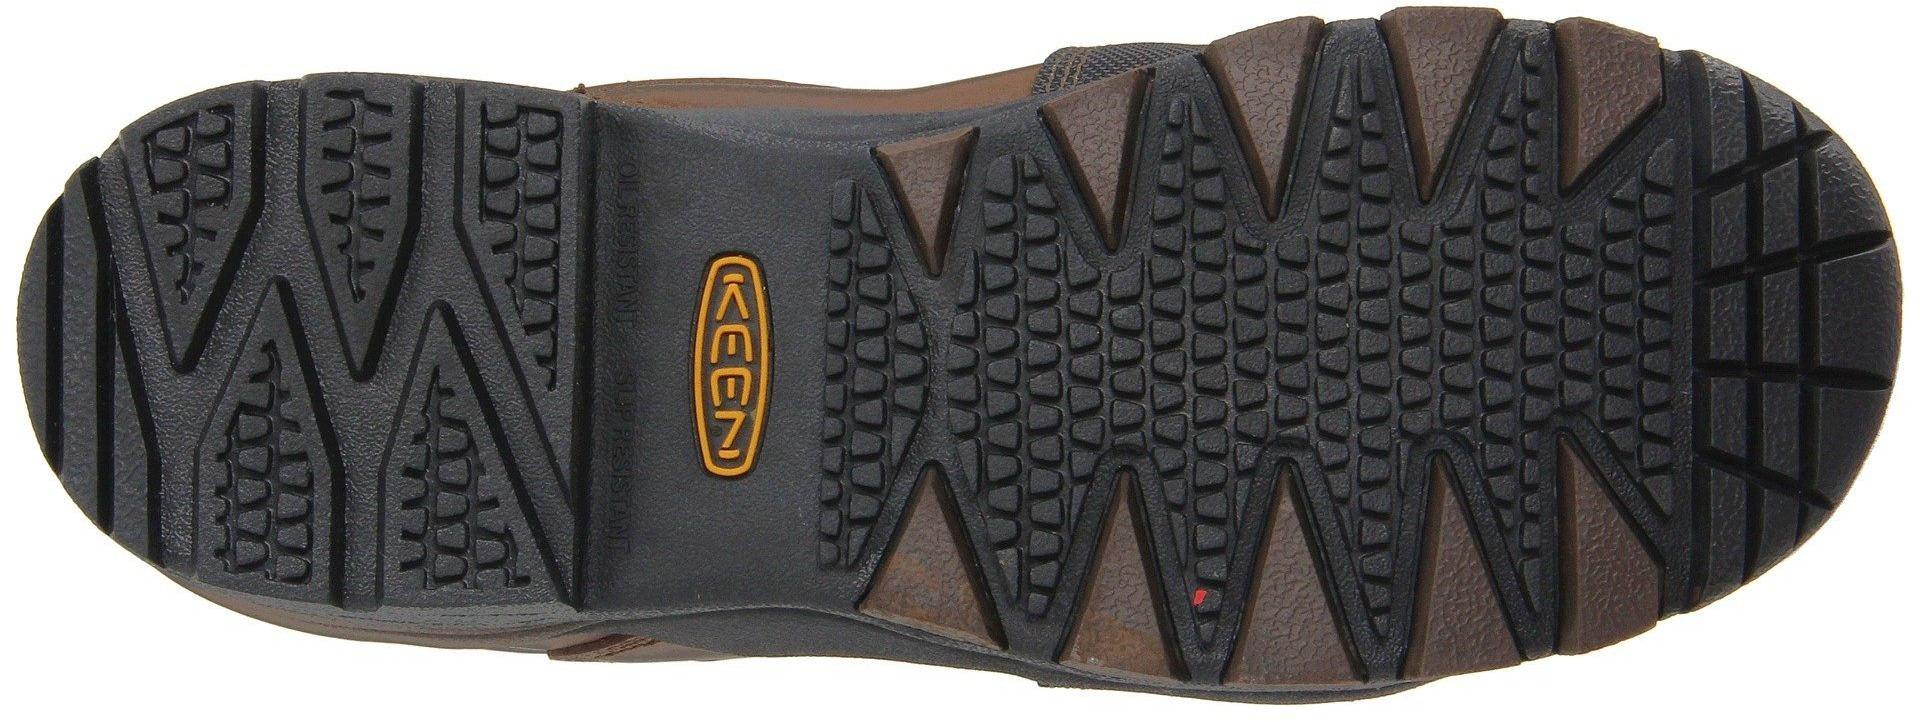exclude: (574, 47, 1011, 627), (571, 95, 645, 617)
quad: (147, 119, 572, 537), (1212, 452, 1524, 684), (1188, 212, 1441, 447), (1427, 197, 1660, 434), (988, 252, 1195, 452), (1333, 16, 1539, 206), (1019, 456, 1210, 642), (1704, 186, 1876, 372), (1704, 280, 1873, 452)
text: (681, 267, 779, 367), (683, 365, 780, 464)
triangle: (1212, 452, 1524, 684), (1333, 16, 1539, 206), (1019, 456, 1210, 642)
